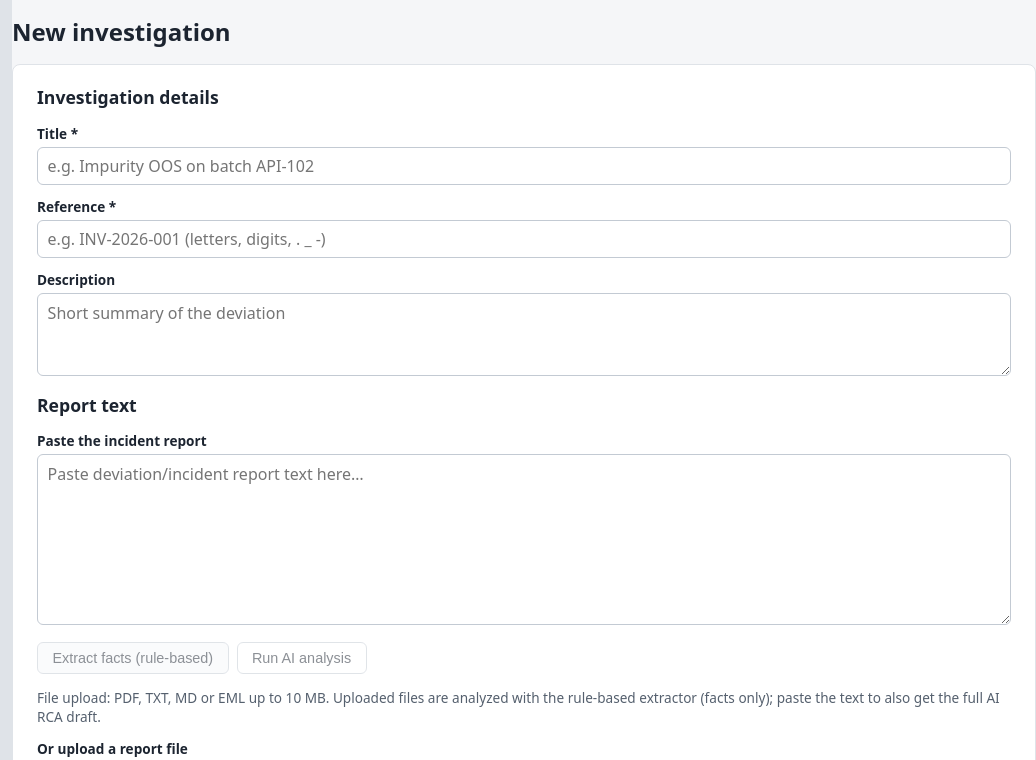
Test: runs AI analysis and displays separated results
Type "batch API-102 impurity 2.1%" into the text box labelled "Paste the incident report" at (524, 540), box [37, 454, 1011, 625]
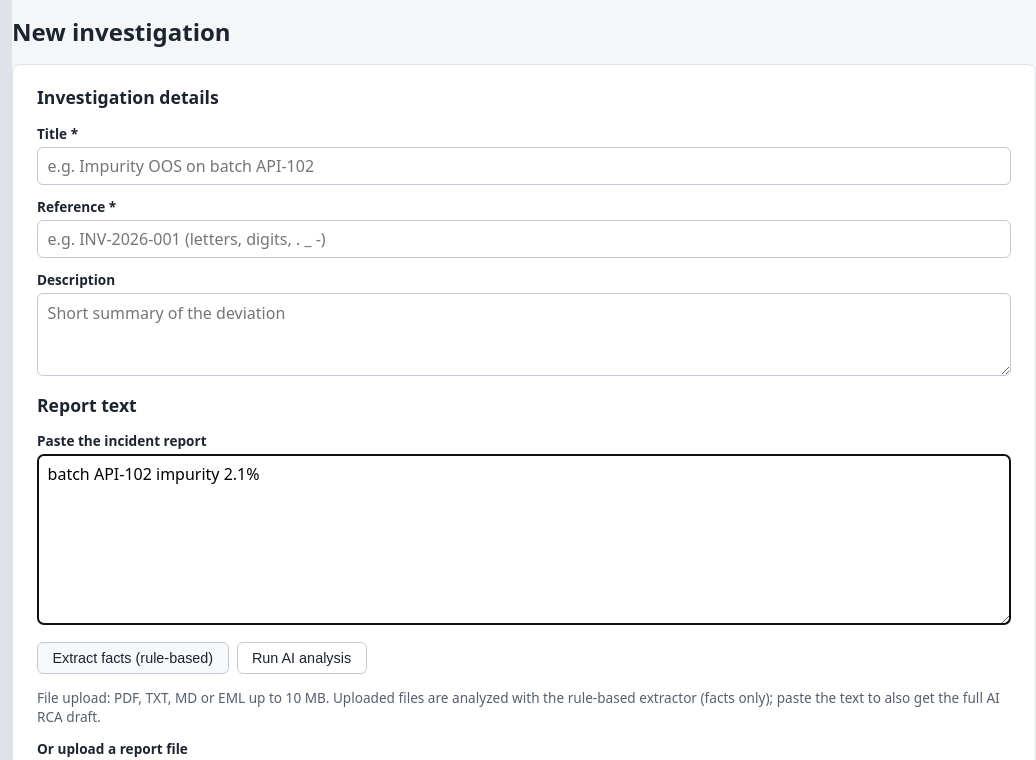
Click the button "Run AI analysis" at (302, 658), box [236, 642, 366, 674]
(page scrolled)
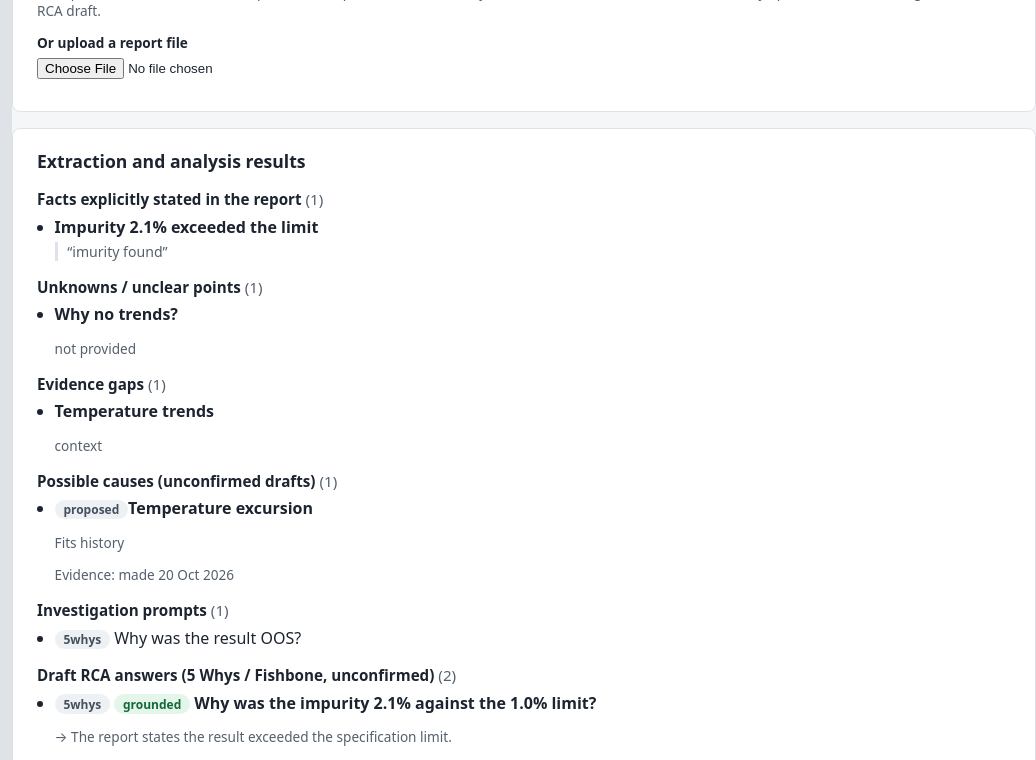
Result: the heading "Possible causes (unconfirmed drafts) (1)" is shown at [37, 471, 337, 491]
Result: the text "proposed" is shown at [55, 500, 128, 519]
Result: the heading "Evidence gaps (1)" is shown at [37, 374, 166, 394]
